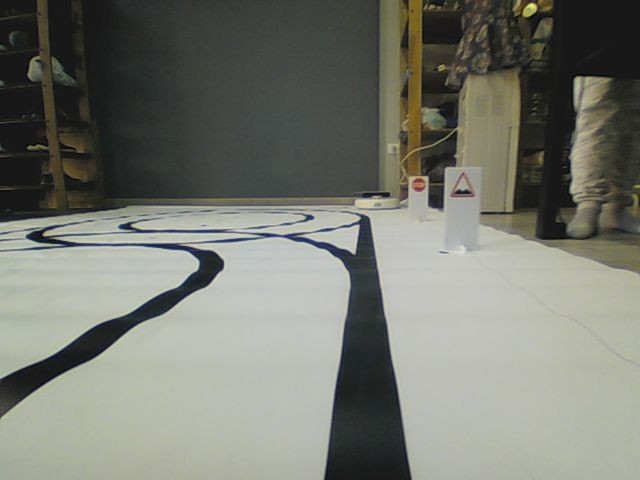Nerov: (449, 171, 476, 198)
